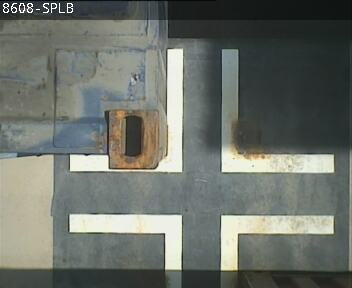groundmarker_1: (68, 48, 333, 172), (68, 214, 334, 288)
